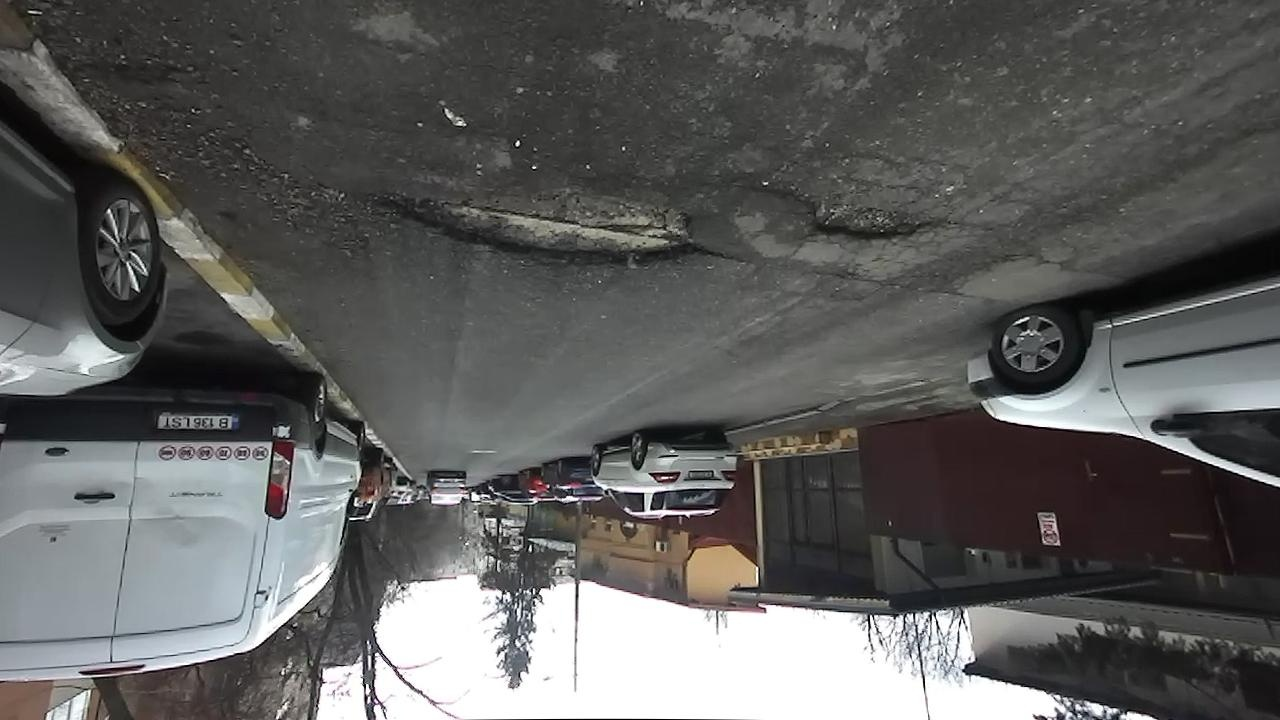pothole: (358, 166, 715, 275), (767, 184, 943, 247)
